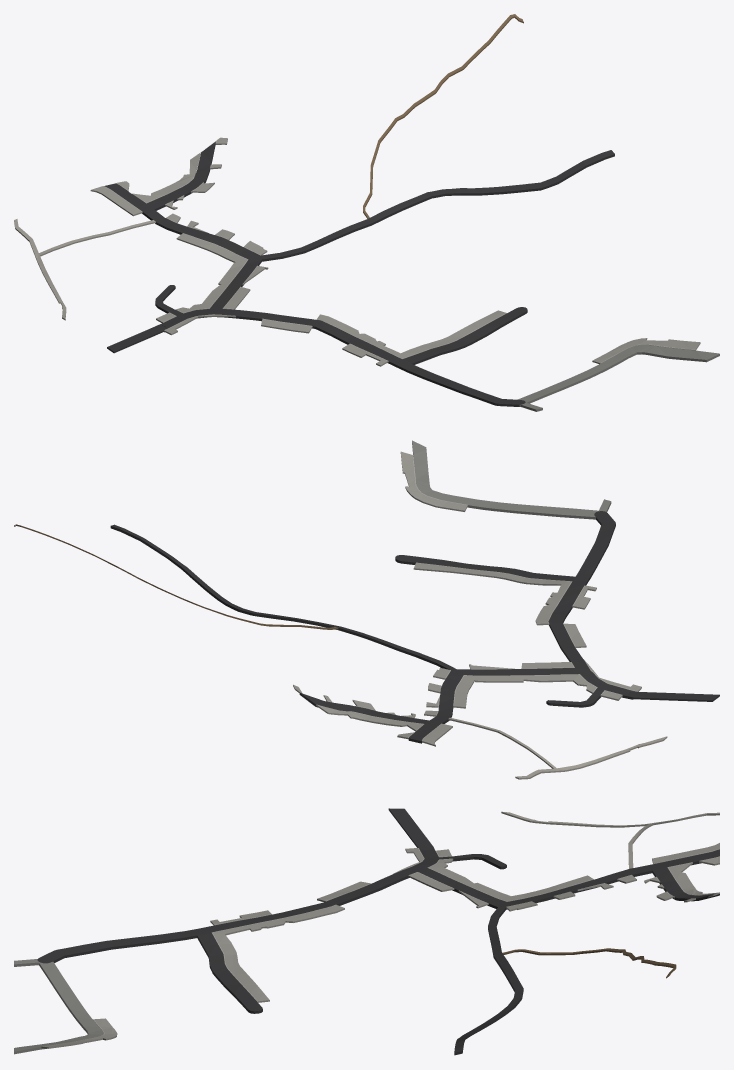
3 renders of one model, top to bottom at view 1: azimuth 30°, elevation 25°; view 2: azimuth 150°, elevation 25°; view 3: azimuth 270°, elevation 25°, orthographic. The views are drawn at different scales.
Bounding box in the file's own units: 293 × 68.21 × 291.
